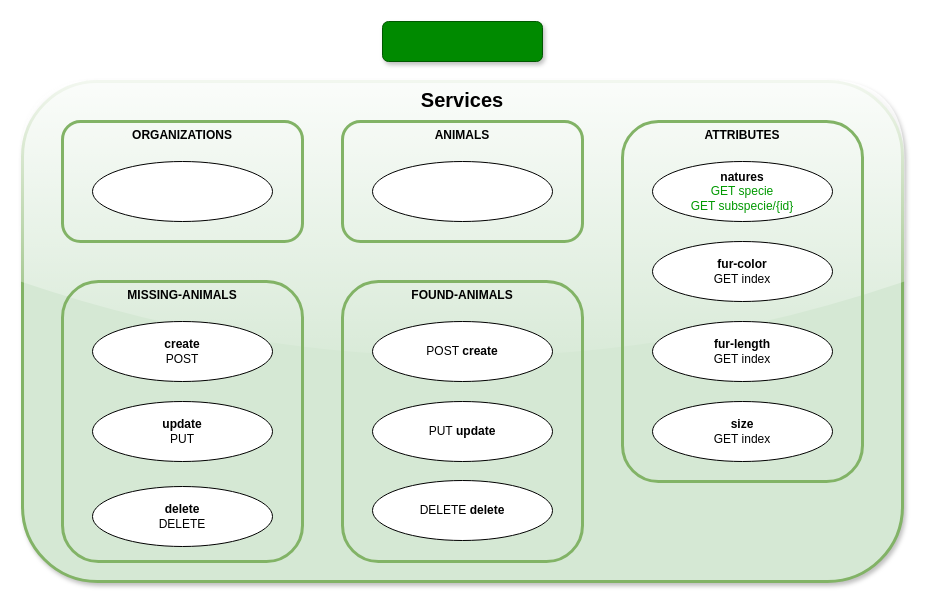
The diagram is 927 pixels wide and 607 high, and some of its shapes have lost their labels. Here are the shapes that lost their labels. From the top down, the centre of each, then its label:
(463,42): API
(182,191): natures GET index GET view
(462,191): animals GET index
